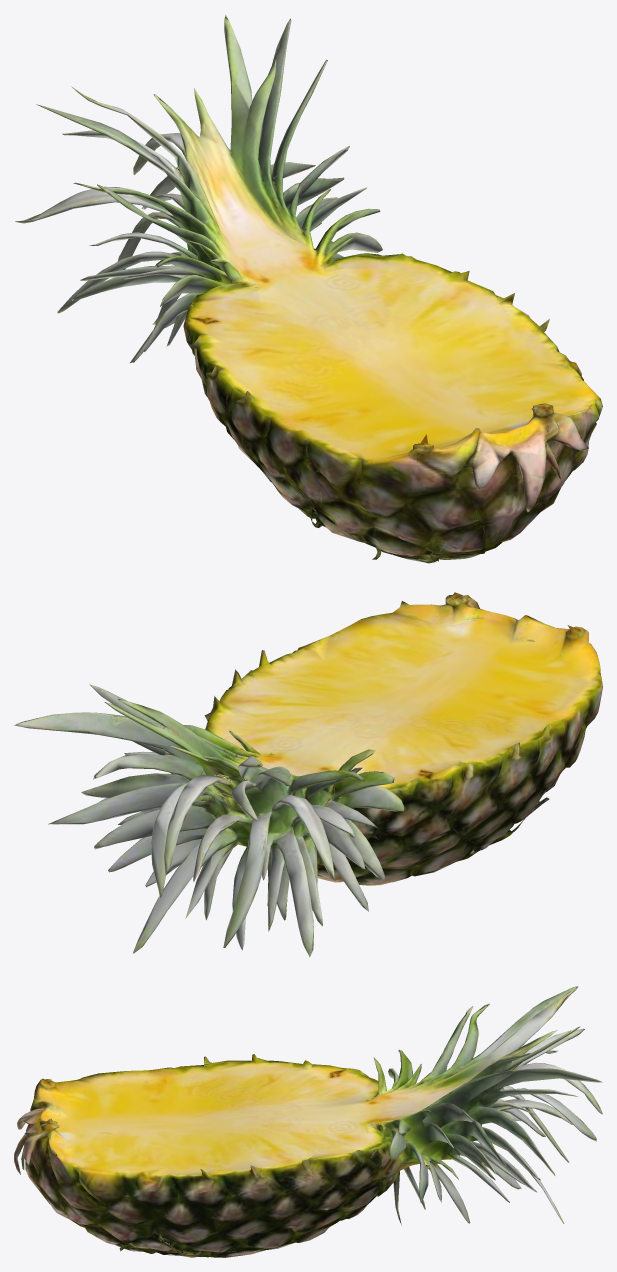
3 views of the same model, one above another, from view 1: azimuth 30°, elevation 25°; view 2: azimuth 150°, elevation 25°; view 3: azimuth 270°, elevation 25° (orthographic). The views are drawn at different scales.
Visible parts, largest first — view 1: Mesh1.0; view 2: Mesh1.0; view 3: Mesh1.0.
Boxes of the visible parts, <box> form: Mesh1.0: <box>15,15,602,563</box>; Mesh1.0: <box>14,592,602,957</box>; Mesh1.0: <box>14,986,602,1257</box>.
Bounding box in the file's own units: 0.8934 × 0.8839 × 1.9.
1 material, 1 textured.
